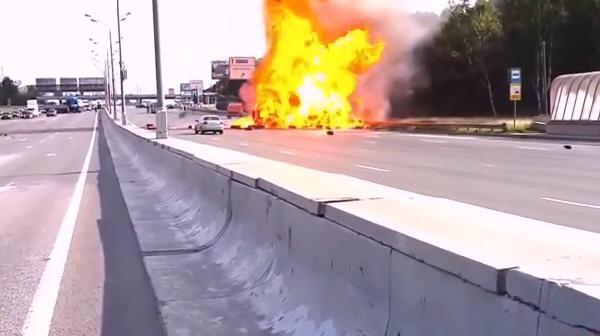fire: (231, 1, 387, 135)
